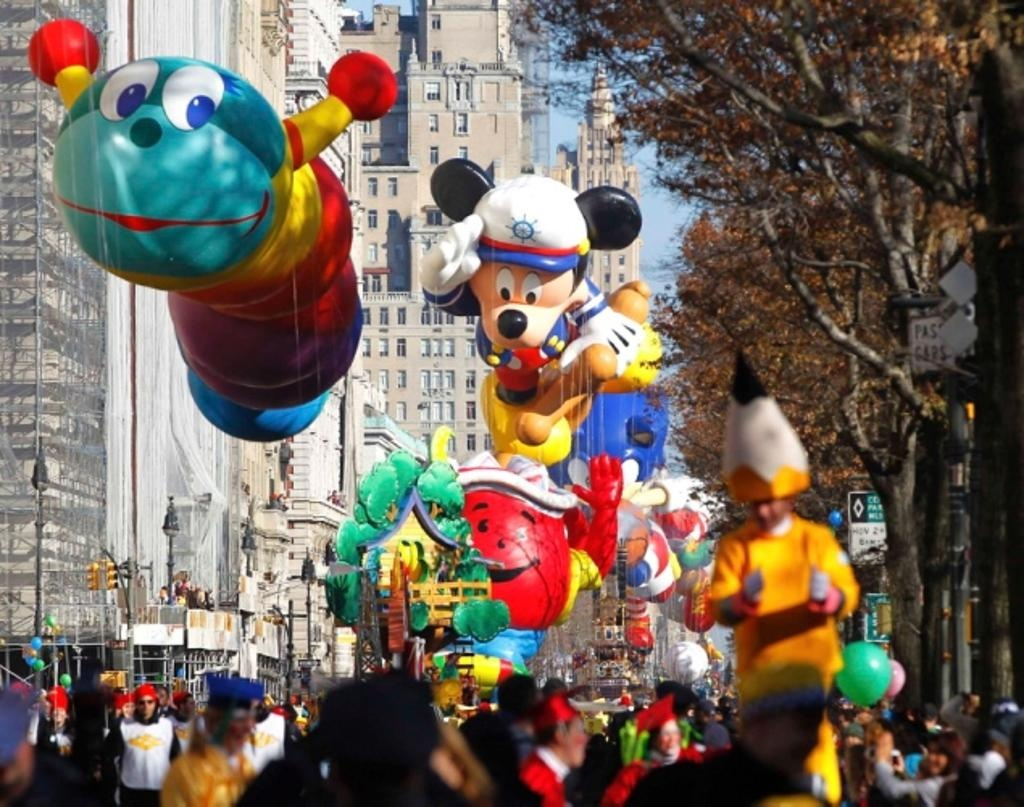human_face: (768, 702, 822, 776), (746, 498, 790, 534), (562, 712, 590, 768), (655, 716, 683, 762), (226, 705, 254, 747), (0, 742, 23, 790), (926, 746, 946, 774), (528, 690, 546, 718), (136, 696, 154, 718), (962, 693, 978, 717), (51, 706, 65, 728), (868, 726, 882, 746), (698, 708, 712, 726), (184, 696, 196, 714), (122, 702, 134, 718), (156, 690, 166, 706)
